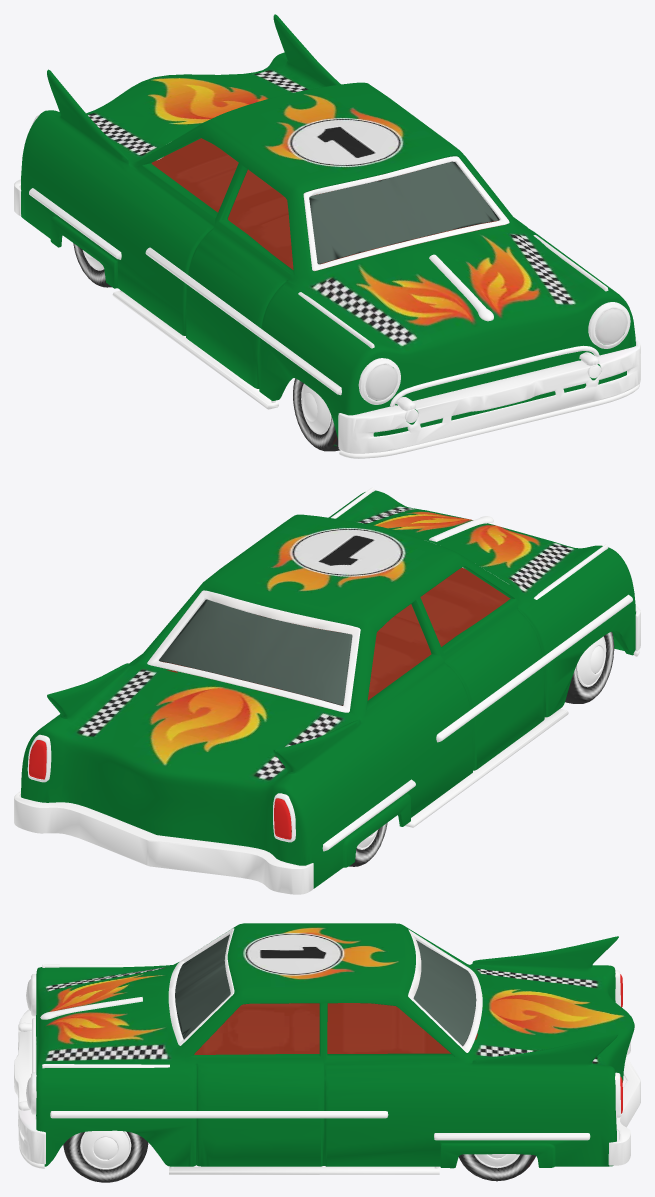
The model's file is retro.glb.
The picture shows the model from 3 angles, top to bottom: view 1: azimuth 30°, elevation 25°; view 2: azimuth 150°, elevation 25°; view 3: azimuth 270°, elevation 25°; orthographic projection. The views are drawn at different scales.
Visible parts, largest first — view 1: ToyCar, Glass; view 2: ToyCar, Glass; view 3: ToyCar, Glass.
Boxes of the visible parts, x1=… form: ToyCar: x1=14, y1=14, x2=640, y2=458; Glass: x1=309, y1=161, x2=499, y2=264; ToyCar: x1=14, y1=487, x2=640, y2=894; Glass: x1=159, y1=599, x2=352, y2=705; ToyCar: x1=14, y1=923, x2=640, y2=1182; Glass: x1=175, y1=934, x2=476, y2=1046.
Bounding box in the file's own units: 0.0187 × 0.0116 × 0.0384.
2 materials, 1 textured.
